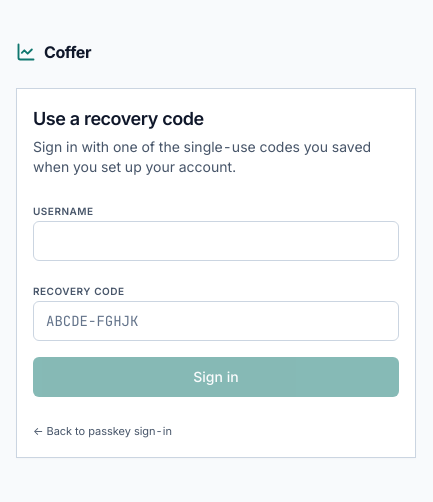
it: RecoveryLoginPage › surfaces the API error detail when the code is rejected
Type "alice" into the field labelled "Username" at (216, 241), box [33,221,399,261]
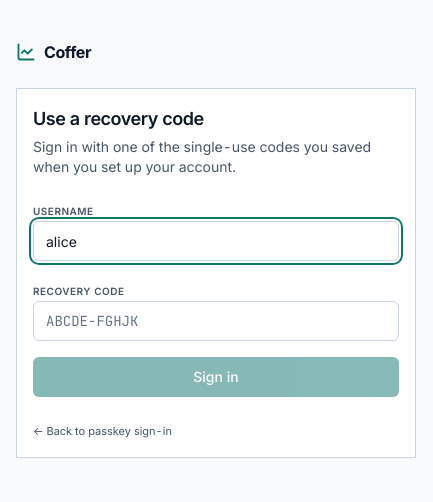
Type "WRONG-CODE0" into the field labelled "Recovery code" at (216, 321), box [33,301,399,341]
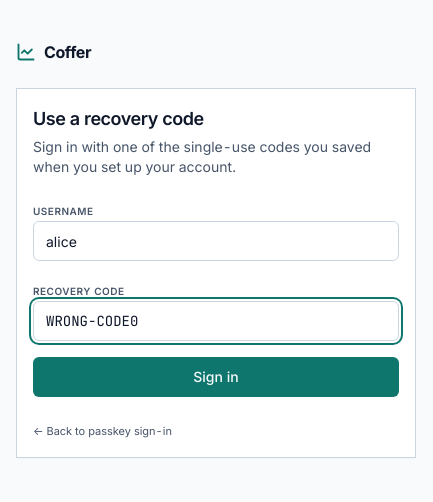
Click the button "Sign in" at (216, 377), box [33,357,399,397]
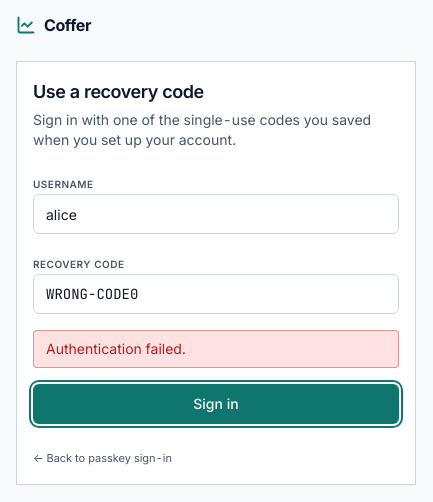
Expected: the message shows "Authentication failed", [46,340,186,357]
